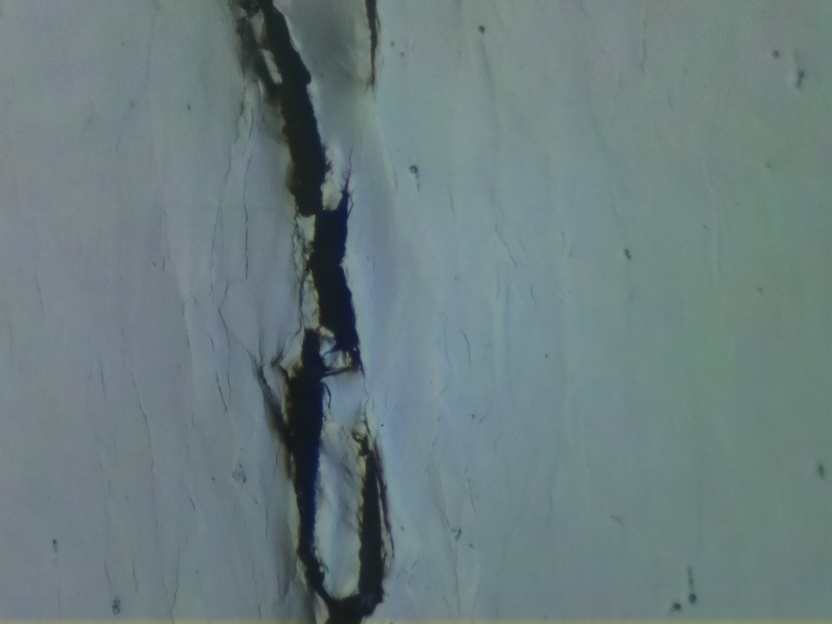crack: (228, 1, 387, 624), (363, 0, 385, 91)
